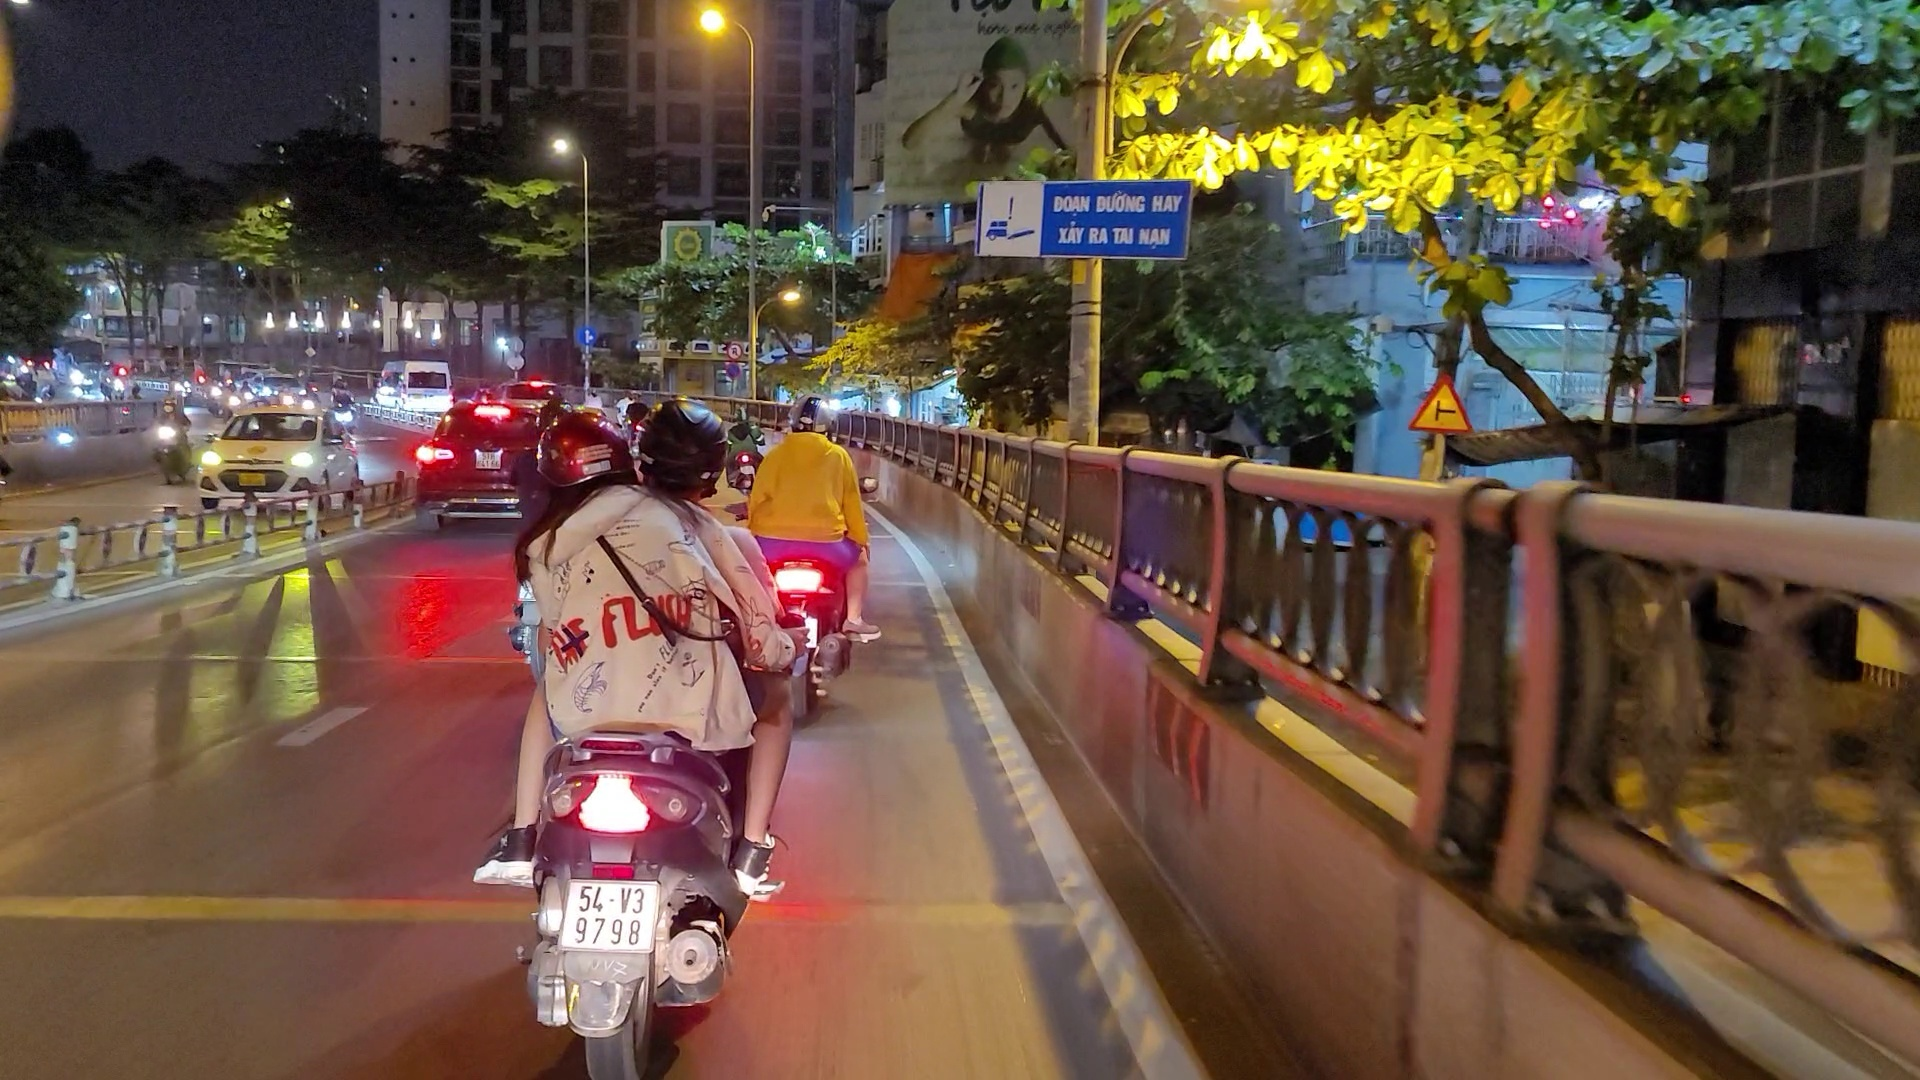Bien khac: (971, 174, 1191, 262), (1404, 369, 1474, 439)
